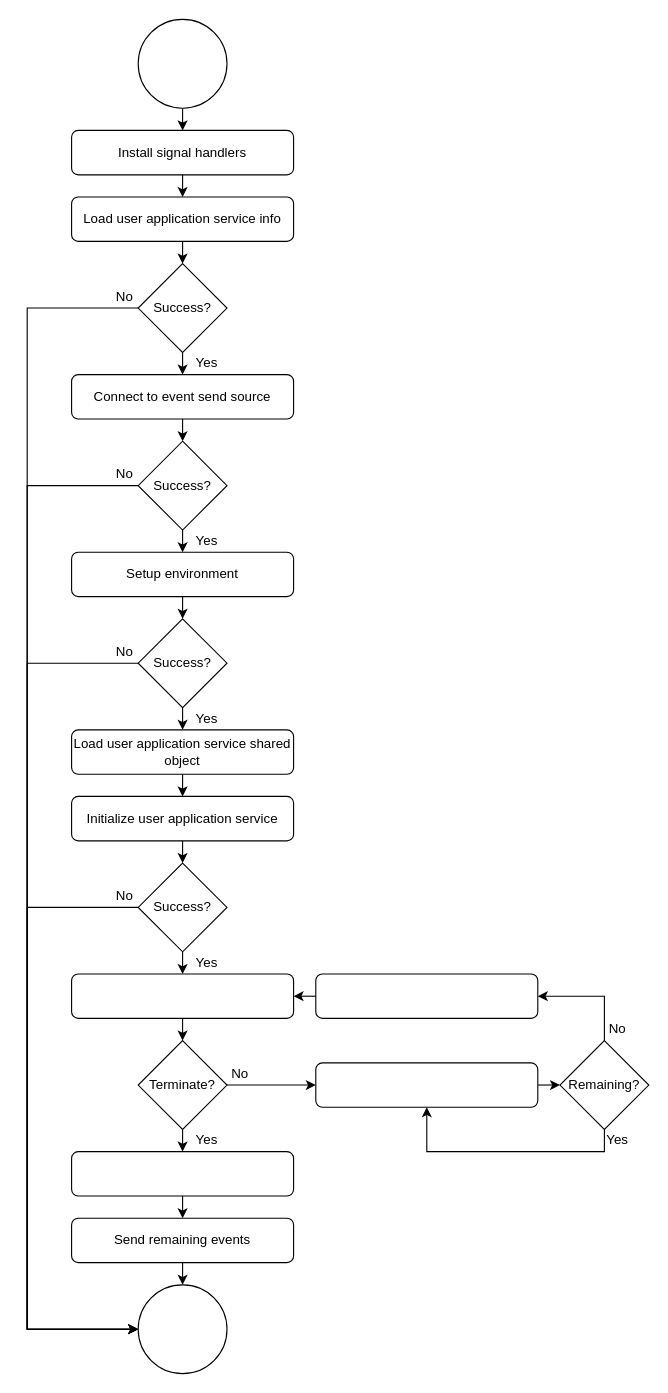
Image size: 668x1393. Some labels were removed from this diagram. Each missing label, with the centre of its shape:
"mrhuservice End" goes at pixel 182 1329.
"mrhuservice Start" goes at pixel 182 63.
"Receive events from user application service" goes at pixel 426 1084.
"Run application update" goes at pixel 182 995.
"Run user application service exit" goes at pixel 182 1173.
"Send collected events to platform services" goes at pixel 426 995.
